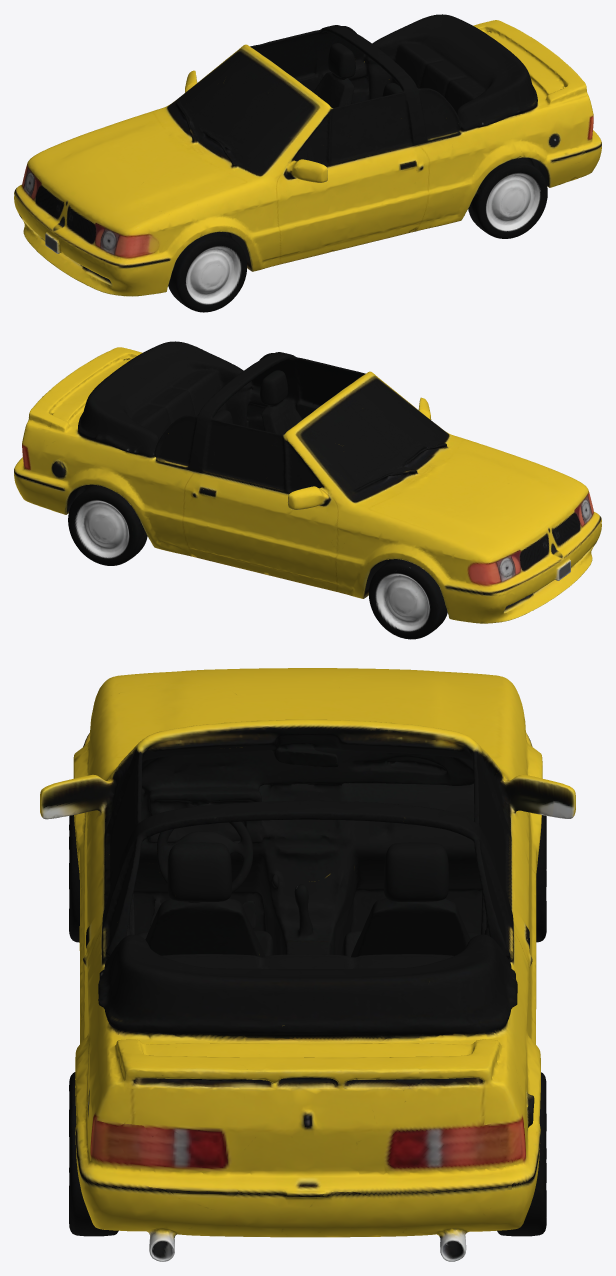
File: cars_crossing_company.glb
The picture shows the model from 3 angles, top to bottom: view 1: azimuth 30°, elevation 25°; view 2: azimuth 150°, elevation 25°; view 3: azimuth 270°, elevation 25°; orthographic projection. The views are drawn at different scales.
Bounding box in the file's own units: 1.9 × 0.6043 × 0.8634.
1 material, 1 textured.
